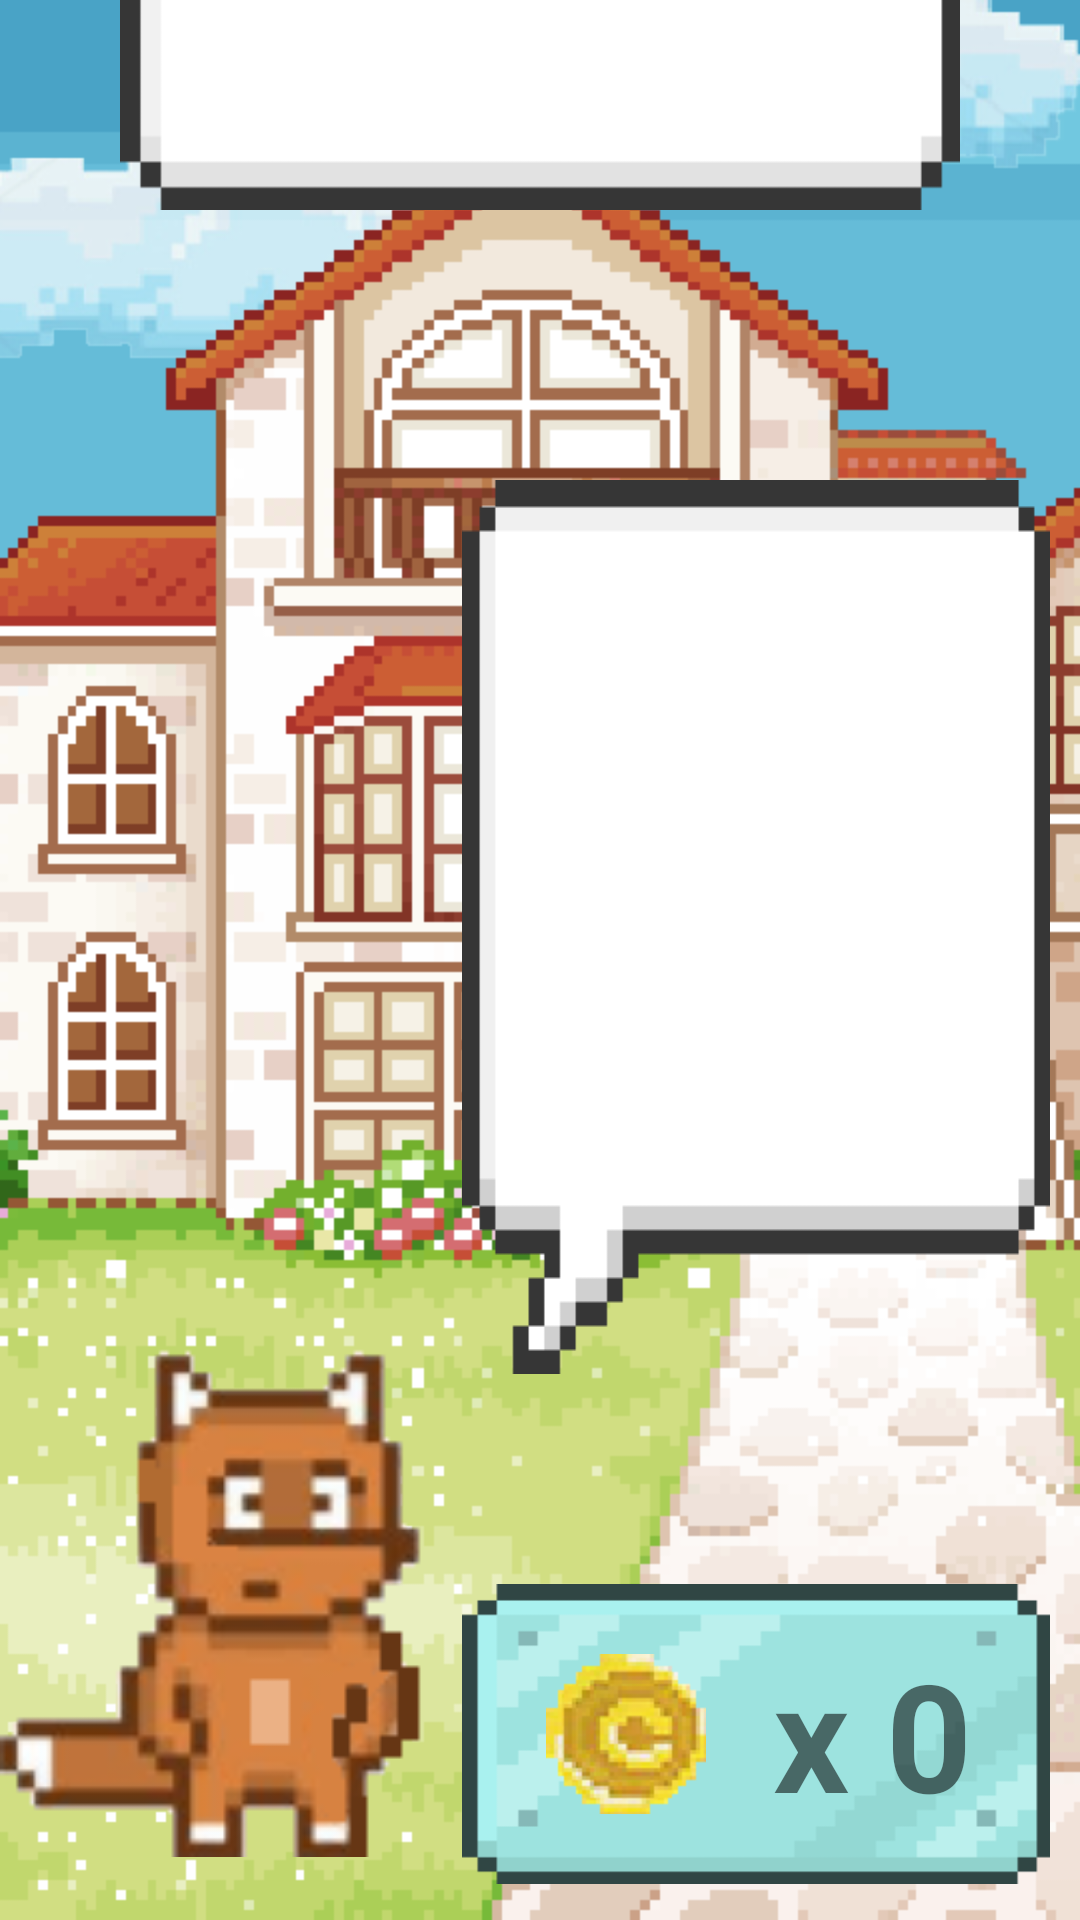

Icon click points for this 1080w x 1920h phone screenshot, format (x=x, y=y):
coin: (x=626, y=1714)
